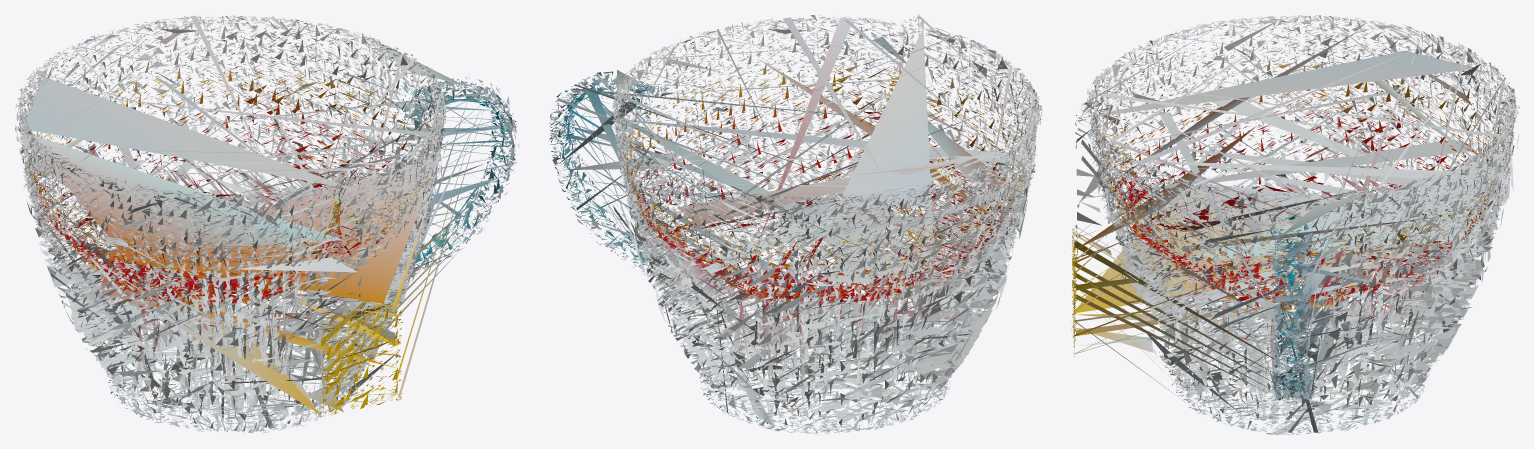
Rendered from cup_of_tea_with_tea_bag_36972.glb.
3 views of the same model, side by side, from view 1: azimuth 30°, elevation 25°; view 2: azimuth 150°, elevation 25°; view 3: azimuth 270°, elevation 25° (orthographic).
Parts seen in each view (by area): view 1: Ref; view 2: Ref; view 3: Ref.
Boxes of the visible parts, bbox=[...] form: Ref: bbox=[15, 15, 519, 433]; Ref: bbox=[549, 14, 1042, 434]; Ref: bbox=[1071, 15, 1519, 434].
Bounding box in the file's own units: 1.56 × 0.9351 × 1.3.
